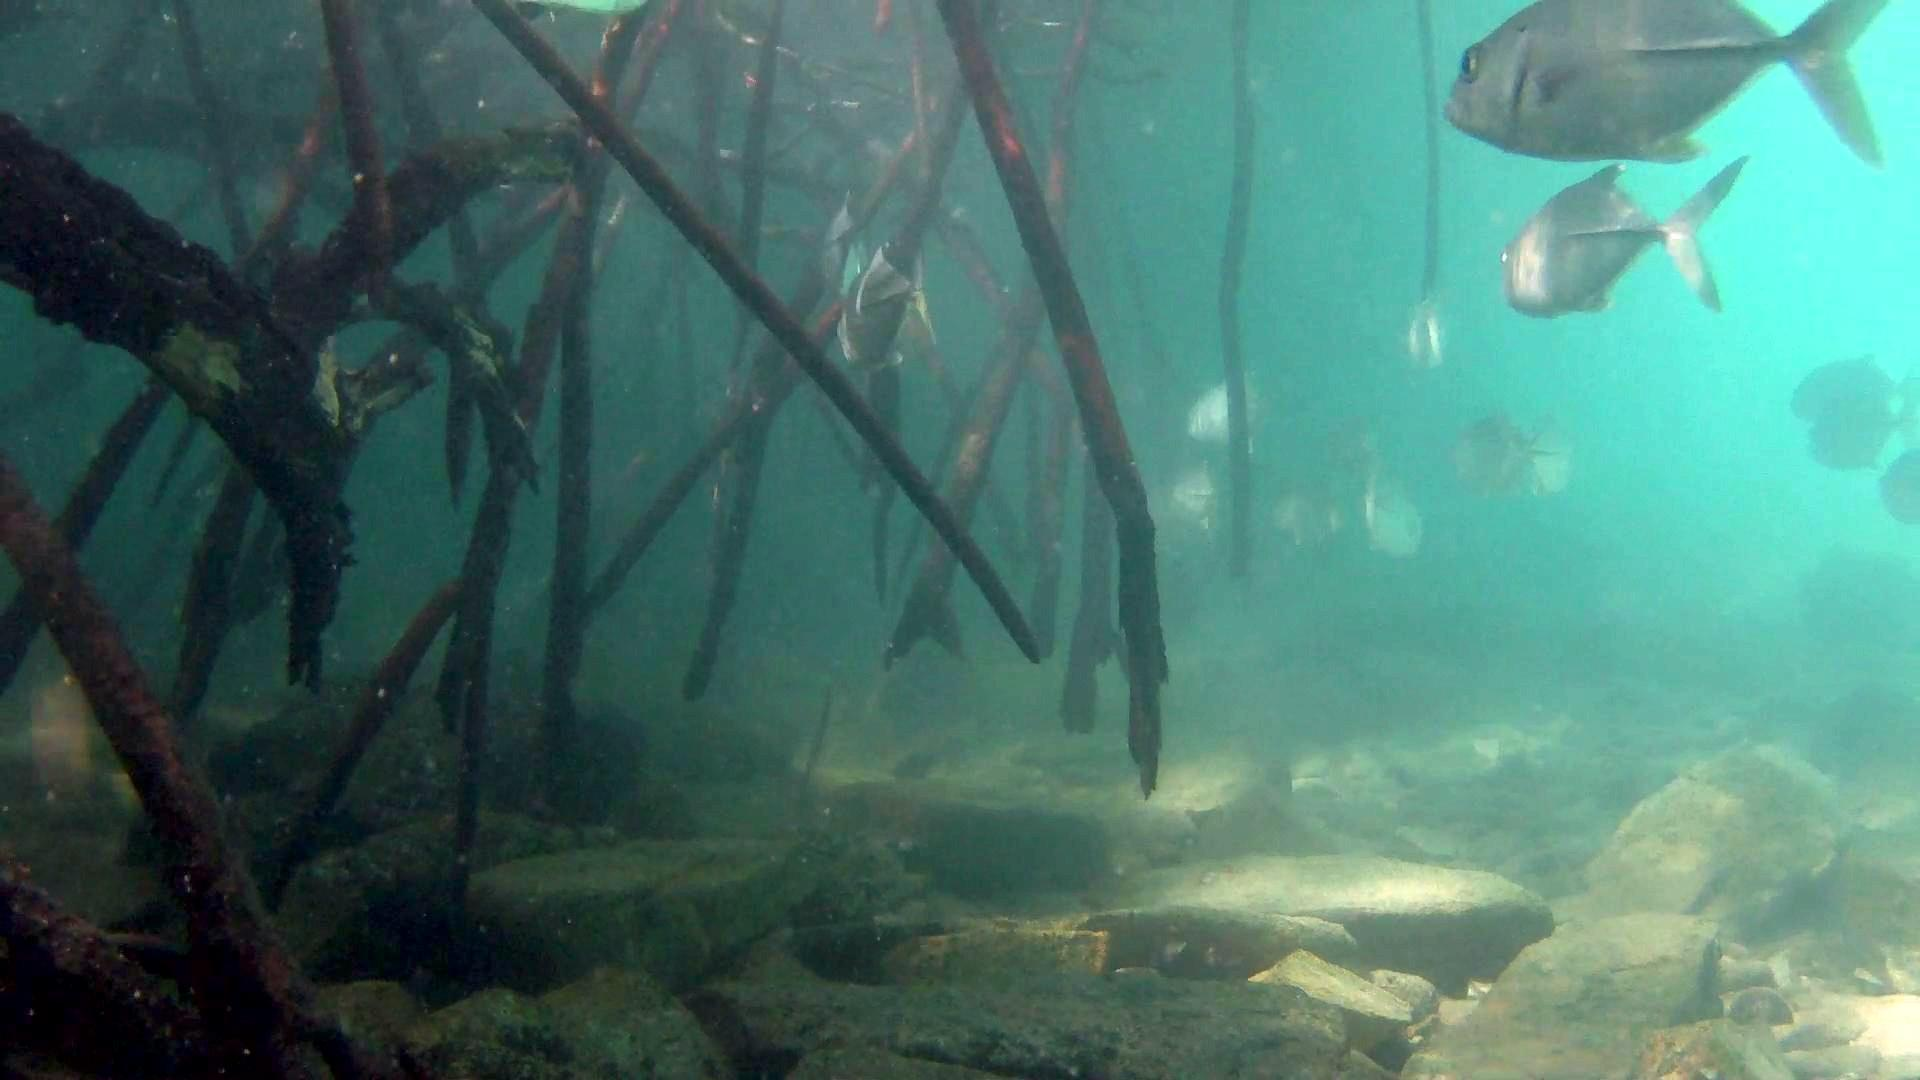caranx: (1437, 0, 1902, 173), (1497, 149, 1756, 323)
